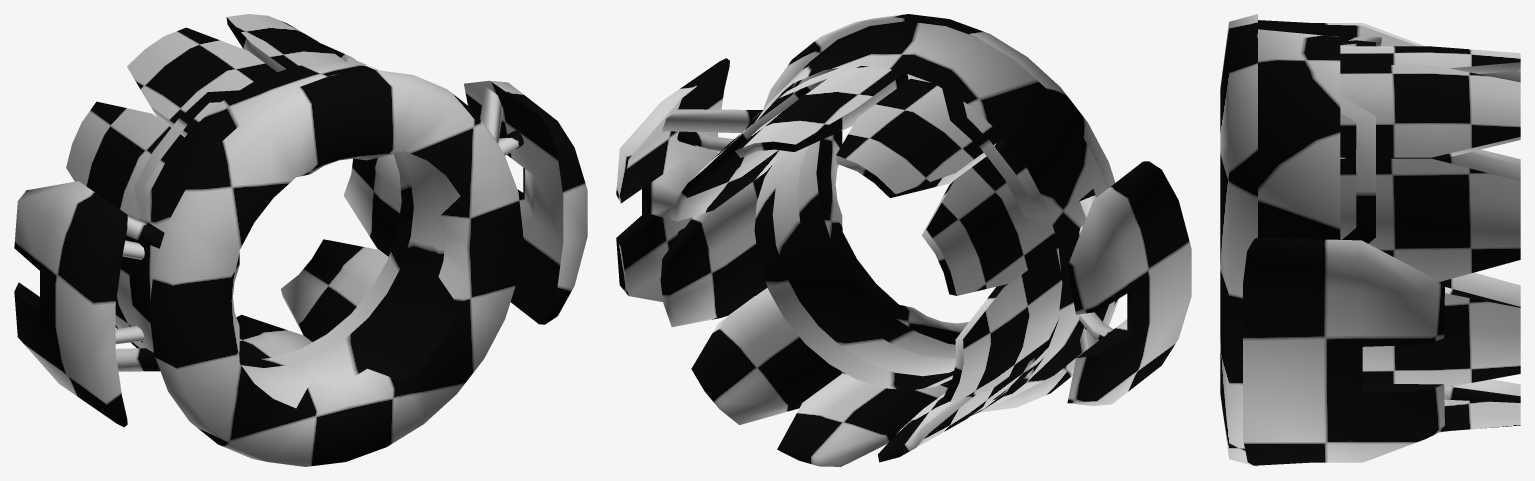
File: streuner_gate.obj
The picture shows the model from 3 angles, left to right: view 1: azimuth 30°, elevation 25°; view 2: azimuth 150°, elevation 25°; view 3: azimuth 270°, elevation 25°; orthographic projection. The views are drawn at different scales.
Visible parts, largest first — view 1: Object117, ring; view 2: Object117, ring; view 3: Object117.
Boxes of the visible parts, x1,y1,x2,y2 form: Object117: (14, 14, 587, 466); ring: (239, 152, 413, 367); Object117: (616, 14, 1191, 466); ring: (754, 151, 953, 390); Object117: (1220, 14, 1520, 466).
Bounding box in the file's own units: 283 × 209 × 139.
Materials: 2 (2 with a texture image).
